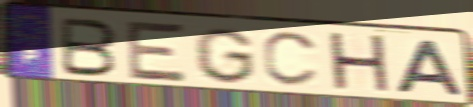A: (391, 38, 468, 99)
B: (59, 15, 119, 79)
C: (260, 30, 323, 90)
E: (126, 19, 189, 84)
G: (191, 25, 258, 86)
H: (325, 30, 395, 97)
